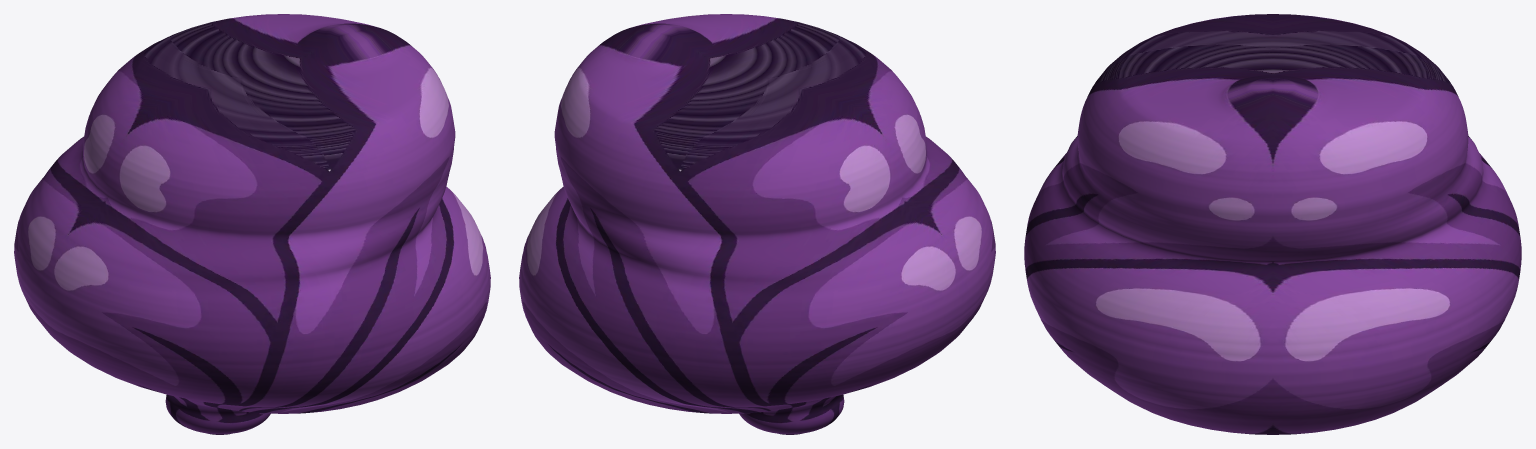
Rendered from purple_plant.glb.
3 views of the same model, side by side, from view 1: azimuth 30°, elevation 25°; view 2: azimuth 150°, elevation 25°; view 3: azimuth 270°, elevation 25° (orthographic). The views are drawn at different scales.
Visible parts, largest first — view 1: purple_plant; view 2: purple_plant; view 3: purple_plant.
Boxes of the visible parts, x1,y1,x2,y2 form: purple_plant: [14, 14, 490, 434]; purple_plant: [519, 14, 995, 434]; purple_plant: [1024, 14, 1521, 434].
Bounding box in the file's own units: 1 × 0.8296 × 0.9903.
1 material, 1 textured.
